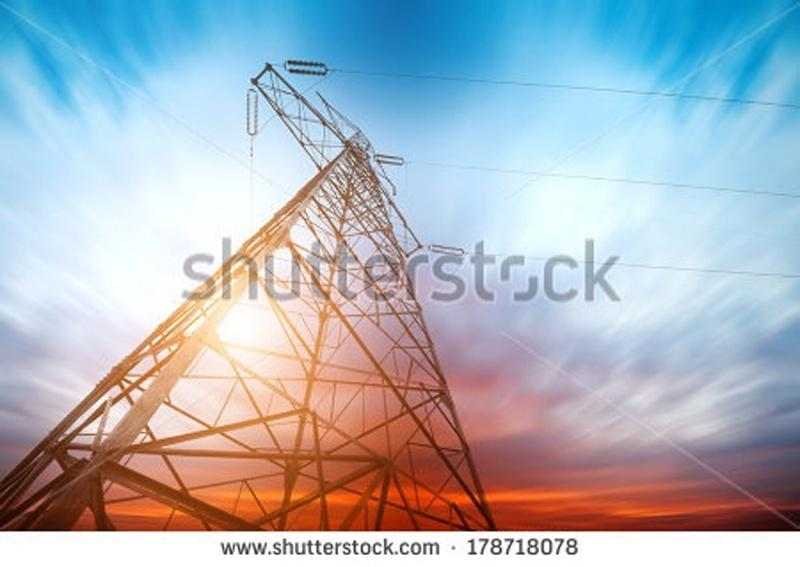power_tower: (26, 40, 504, 534)
